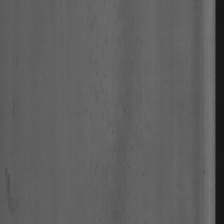water_spot: (77, 31, 153, 215), (3, 161, 26, 221)
